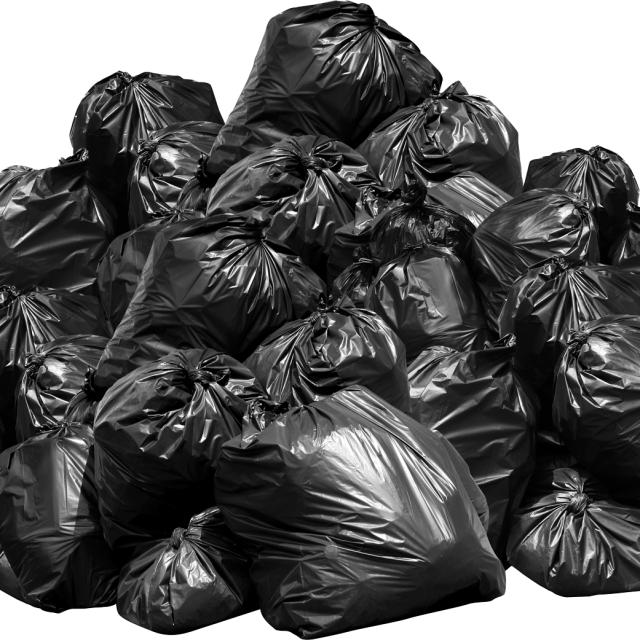Single-layer Plastic: (215, 385, 505, 638), (206, 1, 442, 176), (95, 214, 327, 388), (94, 349, 268, 560), (328, 176, 489, 357), (408, 339, 539, 559), (207, 135, 379, 269), (70, 71, 223, 219), (0, 424, 120, 612), (464, 189, 599, 332), (499, 258, 639, 394), (357, 81, 523, 195), (0, 285, 109, 451), (244, 306, 410, 412), (118, 506, 256, 633), (96, 178, 210, 329), (507, 468, 639, 596), (0, 149, 116, 294), (553, 315, 640, 504), (523, 146, 638, 258), (15, 335, 109, 442), (129, 121, 221, 229)
